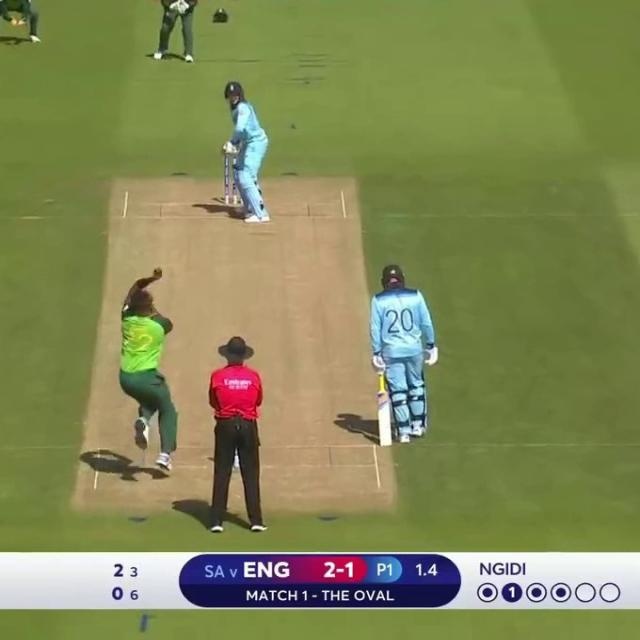bat: (373, 390, 399, 456), (218, 141, 244, 159), (230, 141, 230, 144)
toe: (379, 444, 394, 449)
